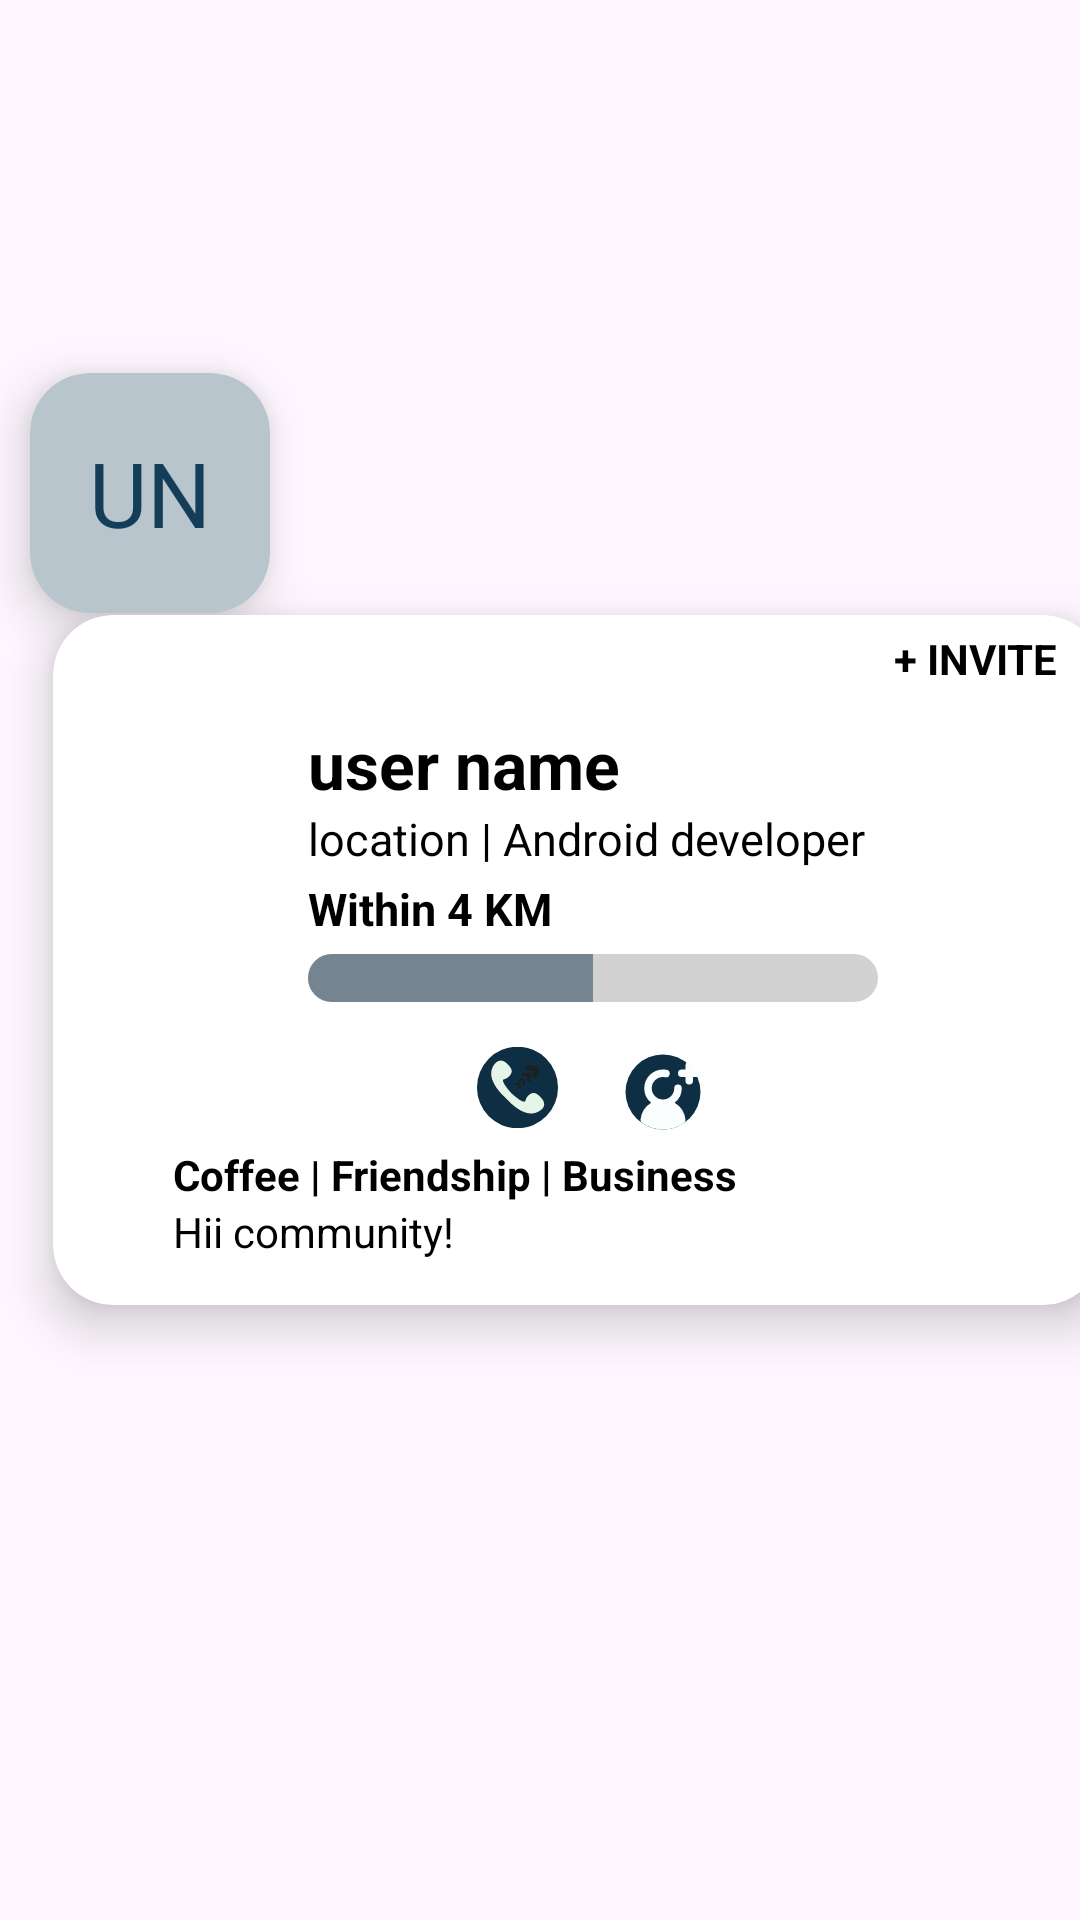

Where icons sit on this 1080×1920 app screen, as Rect(x1, y1, x2, y2):
add friend: Rect(625, 1054, 701, 1130)
call: Rect(477, 1047, 558, 1128)
